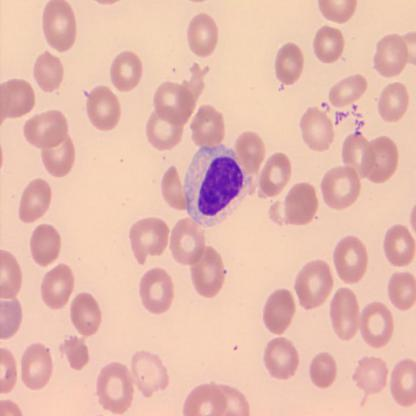Metamyelocyte: (181, 141, 251, 230)
